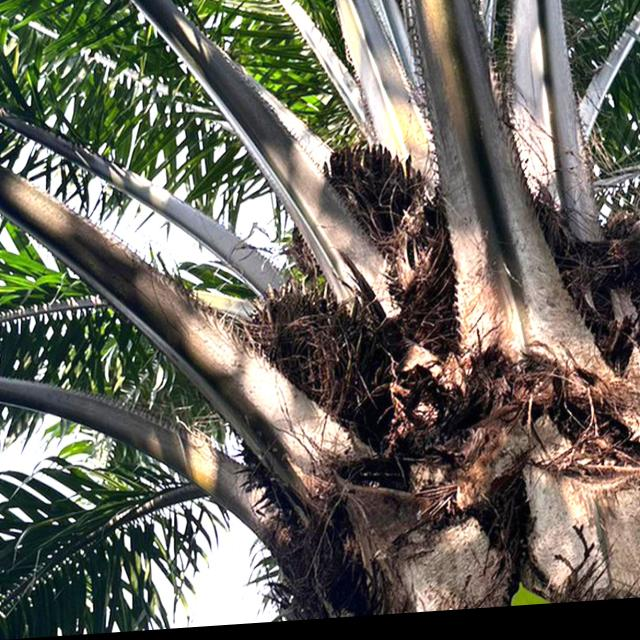ripe: (235, 268, 362, 408)
